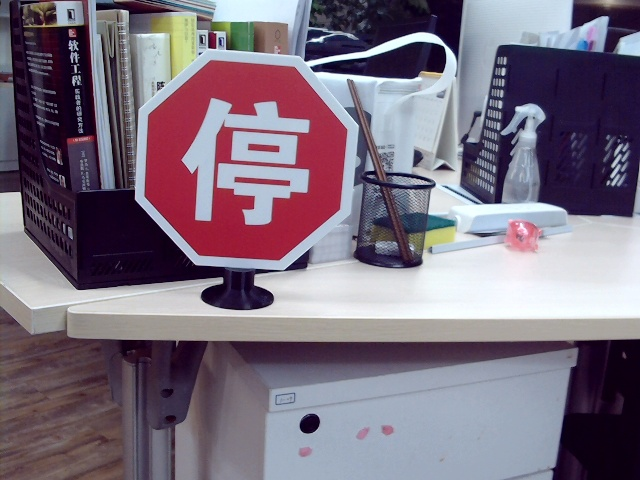stop: (180, 90, 313, 230)
